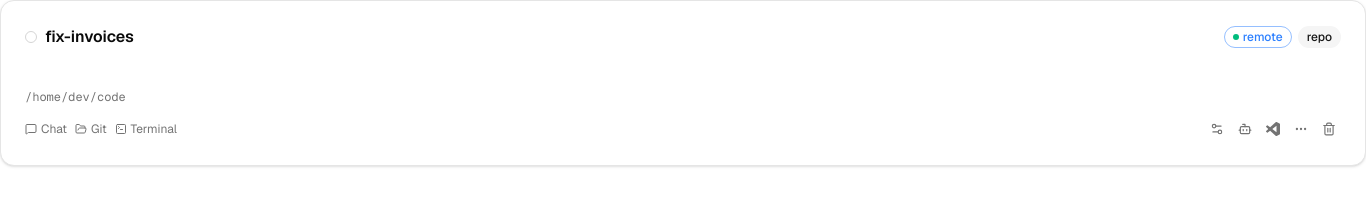
it: WorkspaceCard upgrade action › hides the action when the provider has no upgrade command
This screenshot has width=1366, height=208.
Click the 6th button.
click(1301, 129)  # box [1289,117,1313,141]
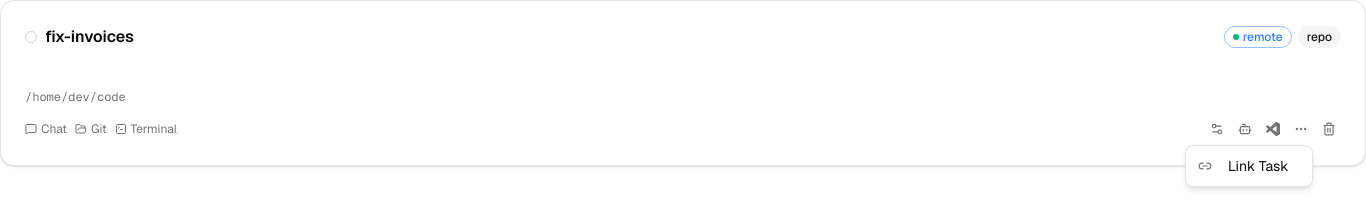
Check: the menu item "Link Task" is shown, box [1198,157,1288,175]
